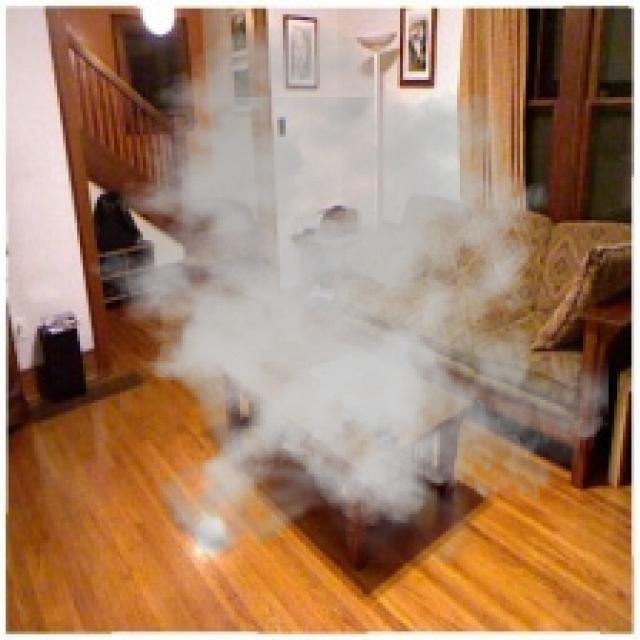Smoke: (66, 23, 608, 563)
